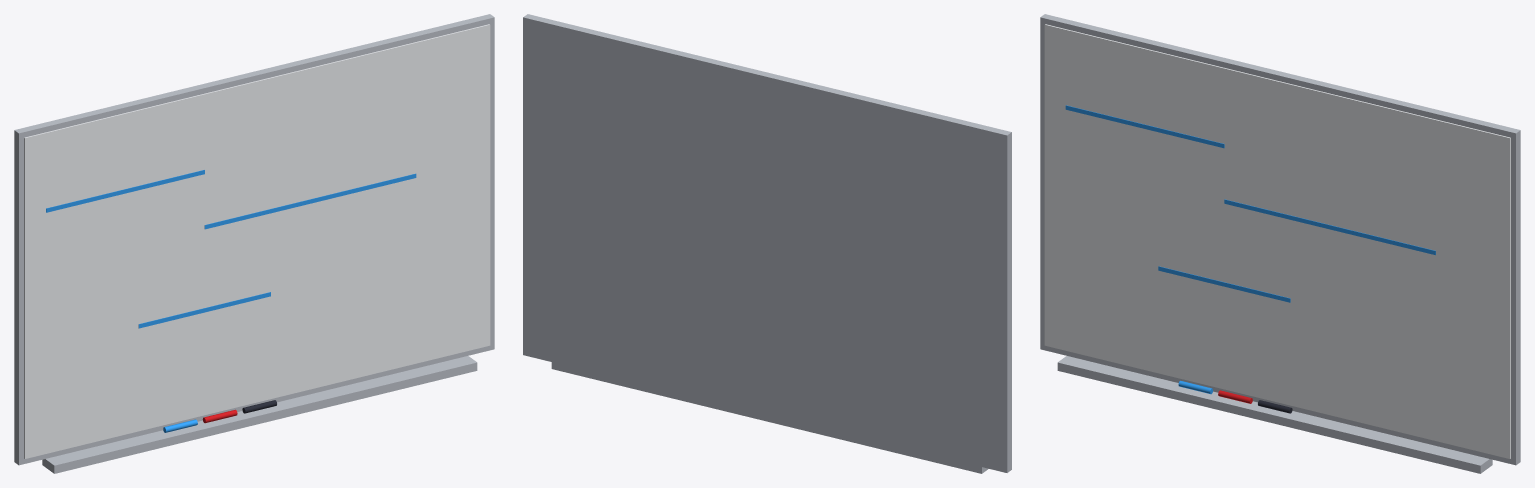
The picture shows the model from 3 angles, left to right: view 1: azimuth 30°, elevation 25°; view 2: azimuth 150°, elevation 25°; view 3: azimuth 330°, elevation 25°; orthographic projection.
Visible parts, largest first — view 1: white, stainless, plastic_blue; view 2: stainless; view 3: white, stainless, plastic_blue.
Boxes of the visible parts, left/top/right/bottom form: white: left=24, top=24, right=490, bottom=458; stainless: left=14, top=14, right=494, bottom=473; plastic_blue: left=46, top=170, right=416, bottom=432; stainless: left=523, top=14, right=1011, bottom=473; white: left=1044, top=24, right=1510, bottom=458; stainless: left=1040, top=14, right=1520, bottom=473; plastic_blue: left=1065, top=105, right=1435, bottom=394.
Size of the model in its own units: 1.8 by 1.23 by 0.09.
